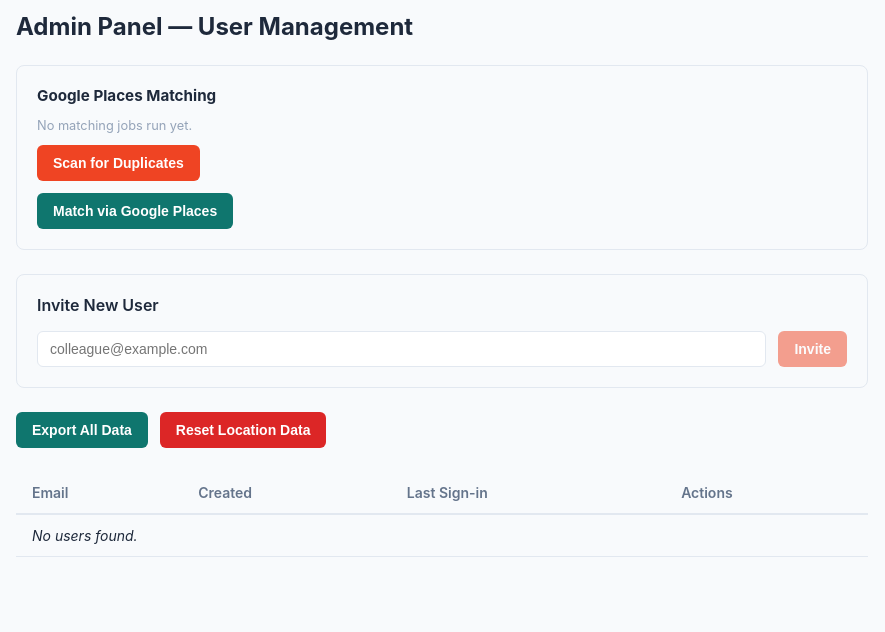
it: AdminPanel › invites a new user when form is submitted
This screenshot has width=885, height=632.
Expected: the text "No users found." is shown, [16,514,868,556]
# Fill in invite form
Type "newuser@example.com" into the field with placeholder "colleague@example.com" at (402, 349), box [37,331,766,367]
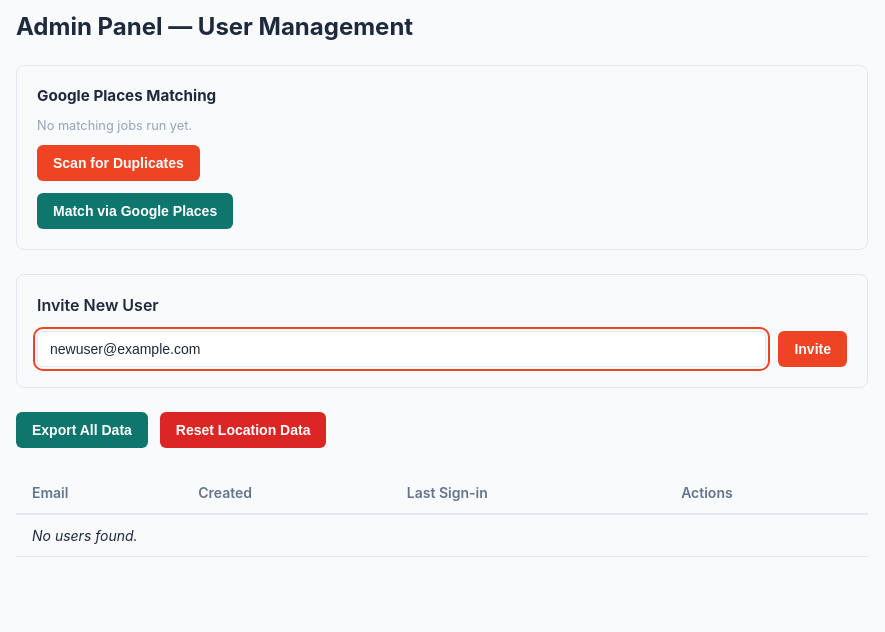
# Submit form
Click the button "Invite" at (813, 349), box [778,331,847,367]
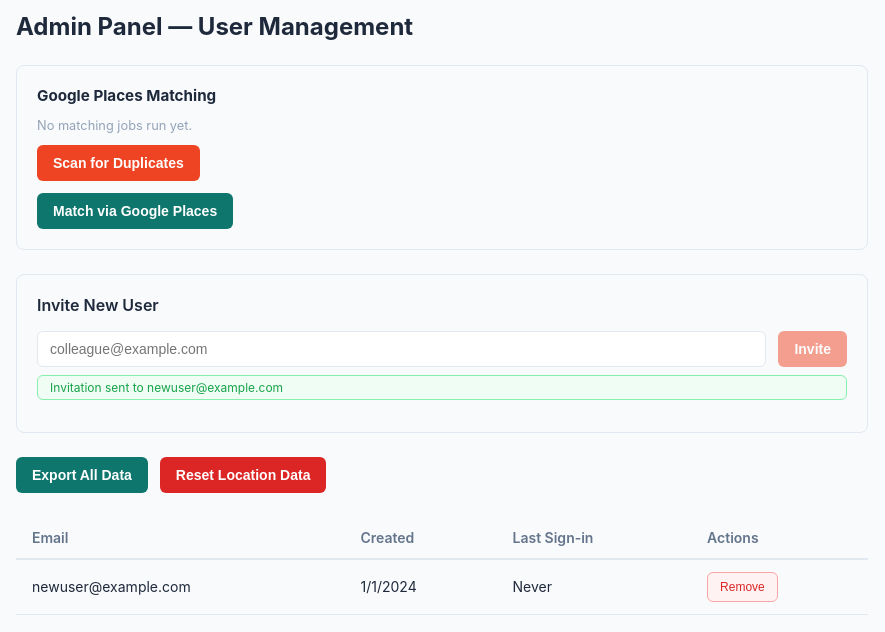
Expected: the text "Invitation sent to newuser@example.com" is shown, [37,375,847,400]
Expected: the text "newuser@example.com" is shown, [16,559,344,614]
